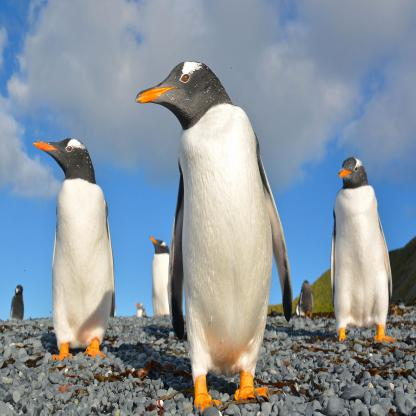Penguin: (124, 45, 311, 415), (28, 129, 133, 373), (323, 146, 406, 362), (145, 226, 188, 335)
